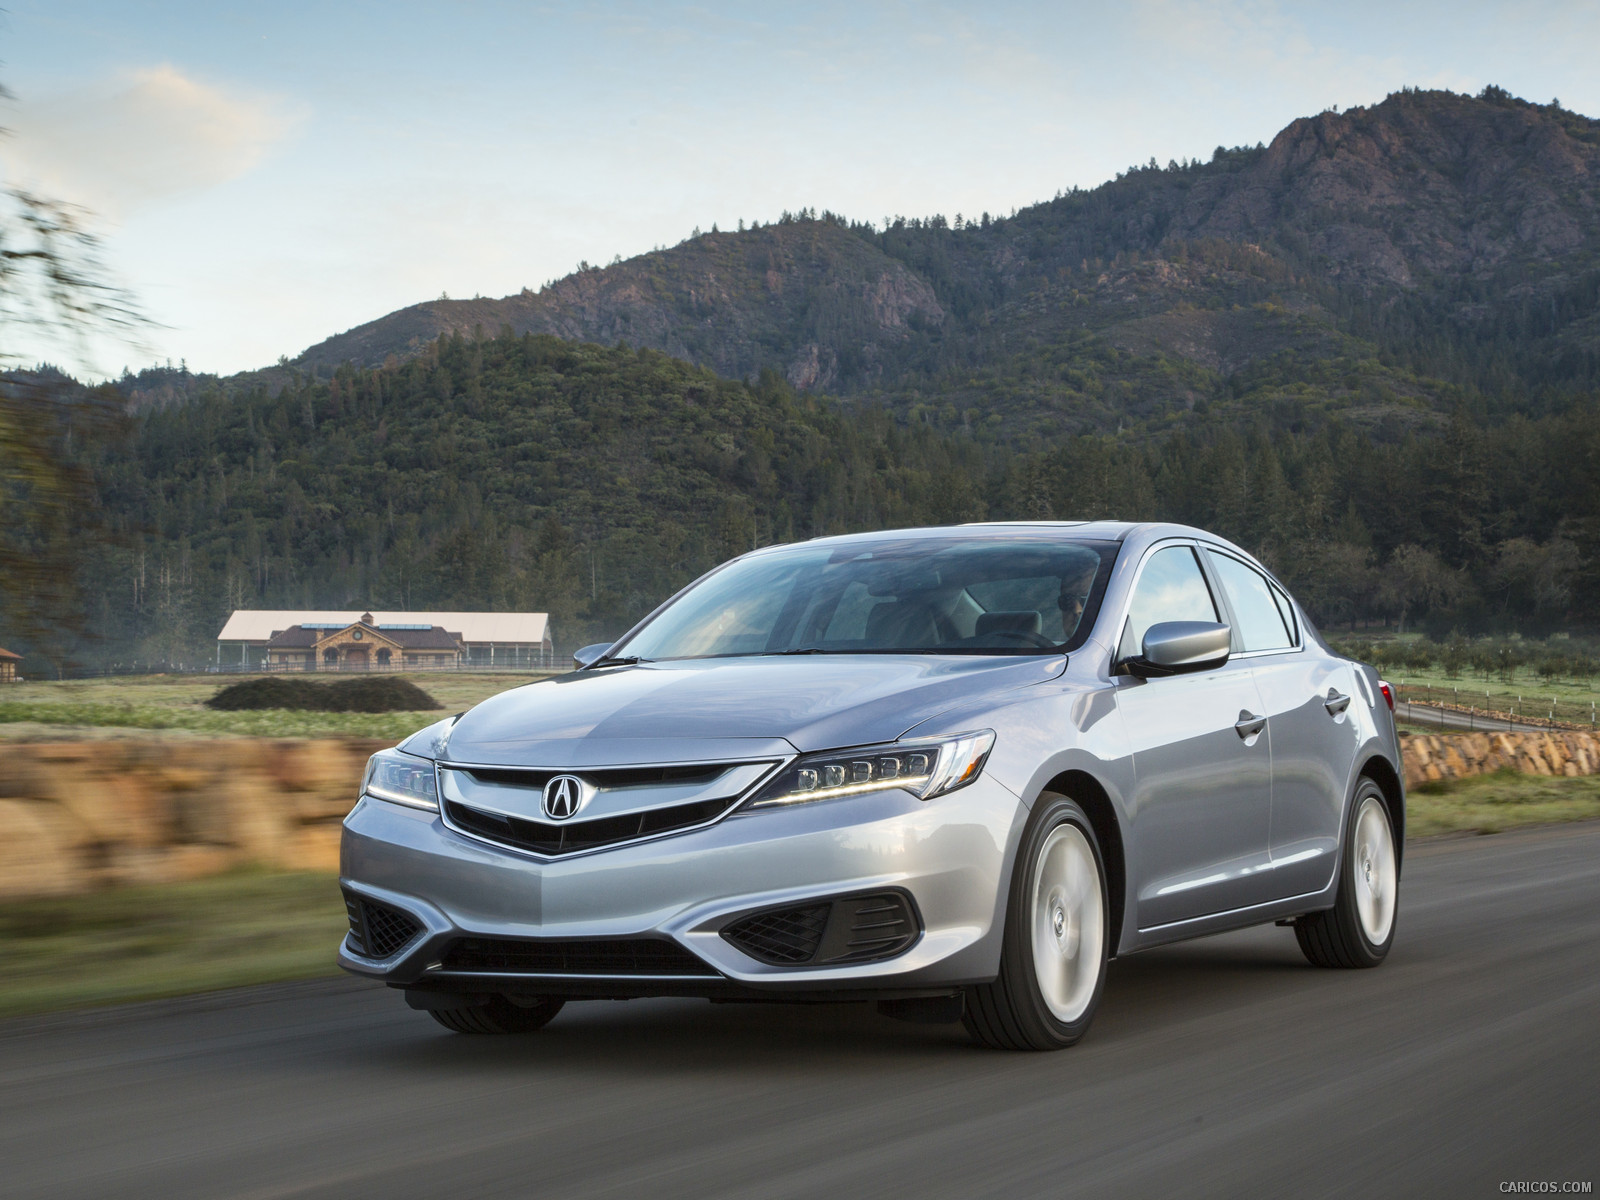Fog Lamp & Scope: (729, 890, 923, 971)
Front: (336, 663, 1056, 984)
Front Bumper: (333, 855, 999, 988)
Grill: (433, 764, 752, 860)
Headlight: (736, 734, 997, 819)
